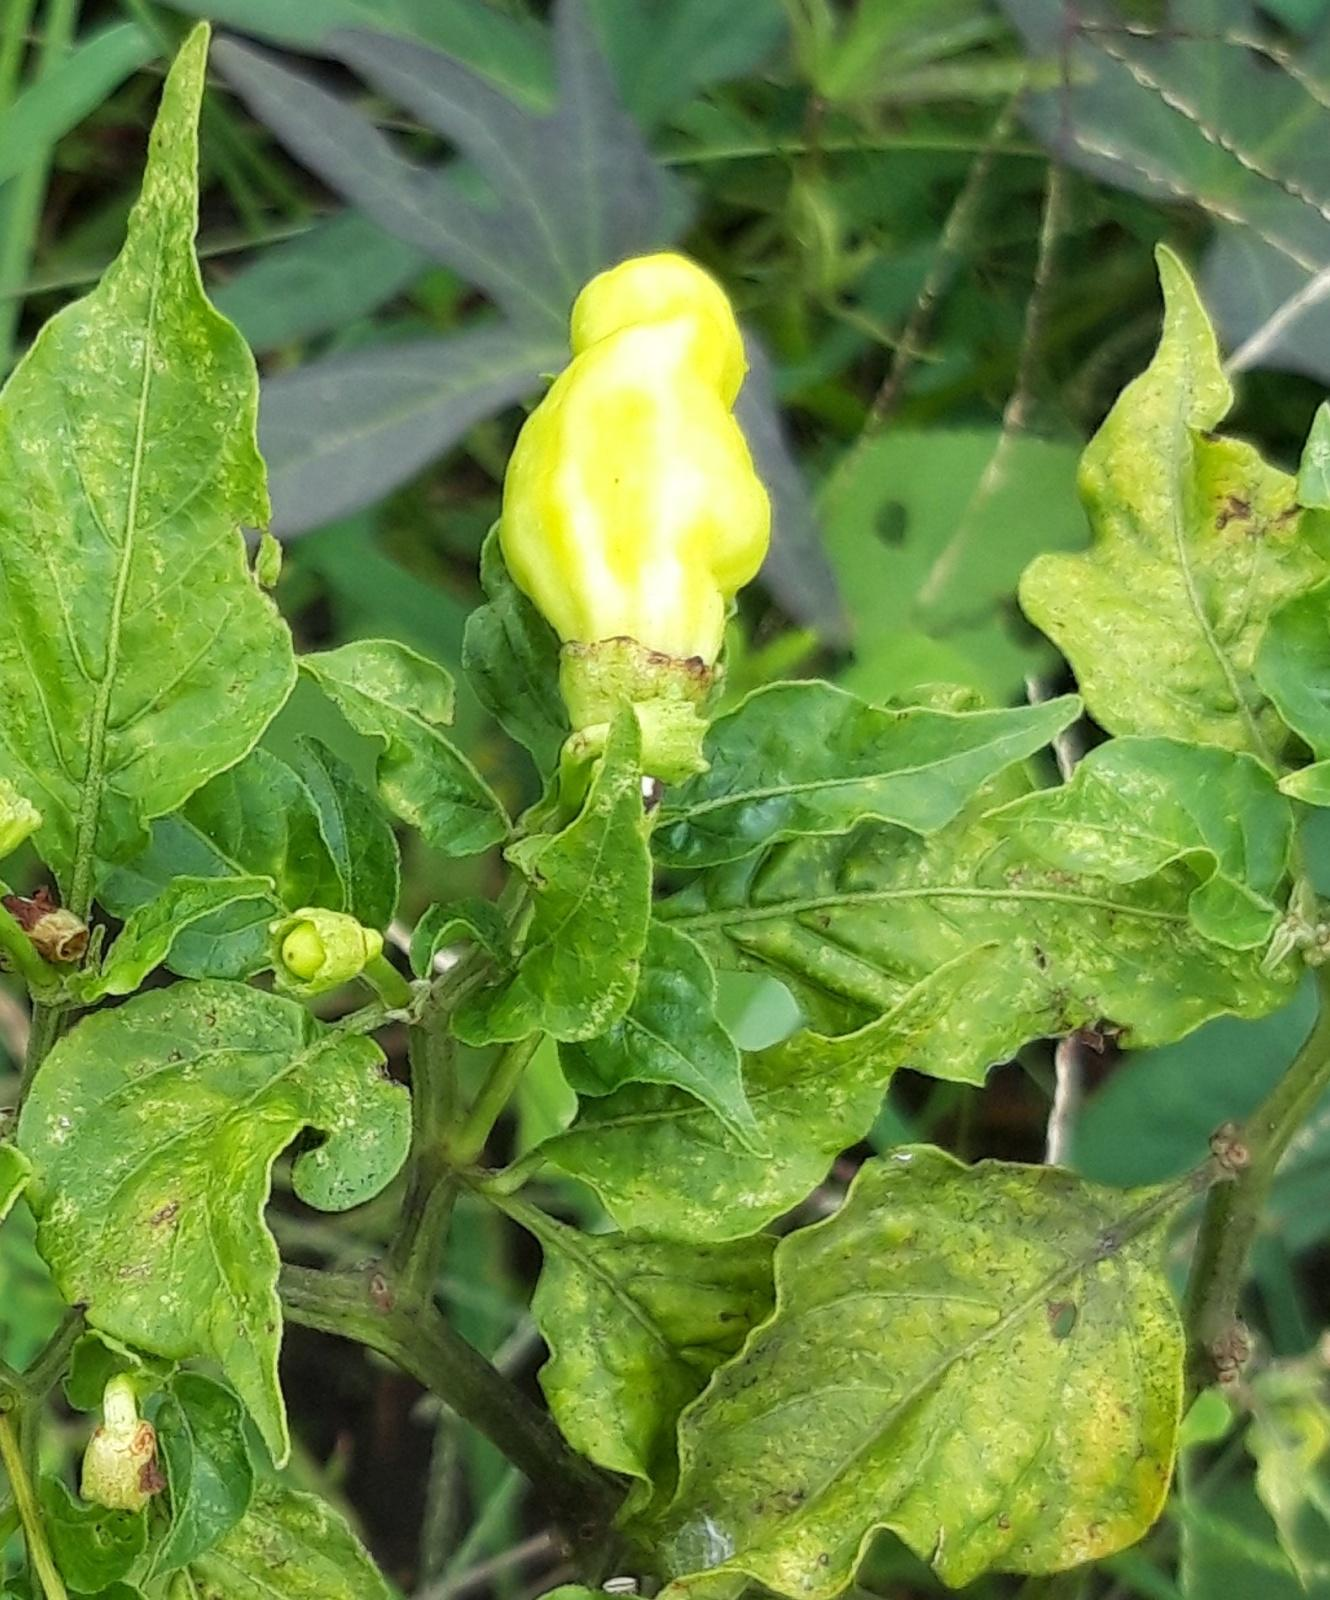cabai_normal: (497, 247, 772, 668)
